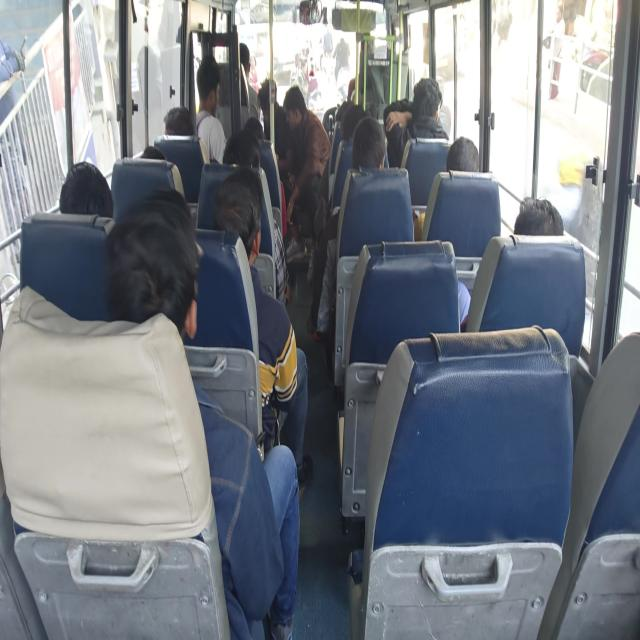person: (116, 228, 184, 316), (208, 177, 263, 251), (513, 192, 563, 252), (451, 141, 507, 190), (63, 168, 113, 222), (226, 138, 273, 180), (133, 137, 177, 178), (195, 63, 224, 118), (413, 70, 443, 122), (341, 100, 369, 142), (278, 89, 309, 119), (362, 128, 383, 171), (242, 107, 270, 139), (235, 45, 257, 83), (168, 104, 194, 136), (255, 87, 279, 117), (354, 35, 374, 58)
